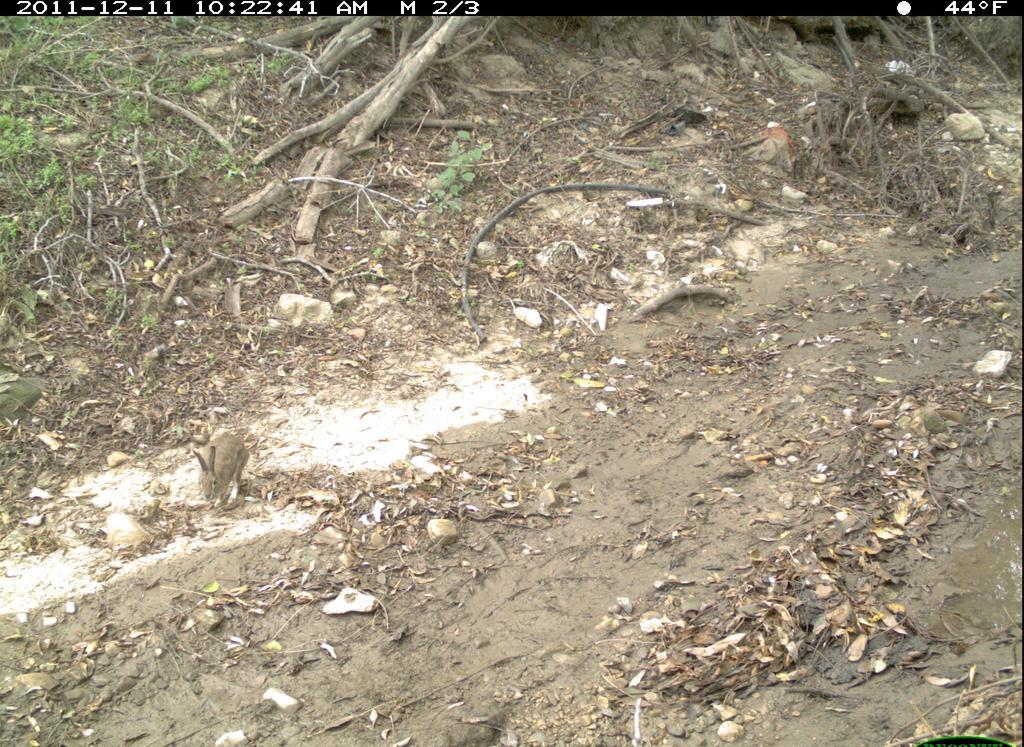rabbit: (185, 405, 254, 524)
